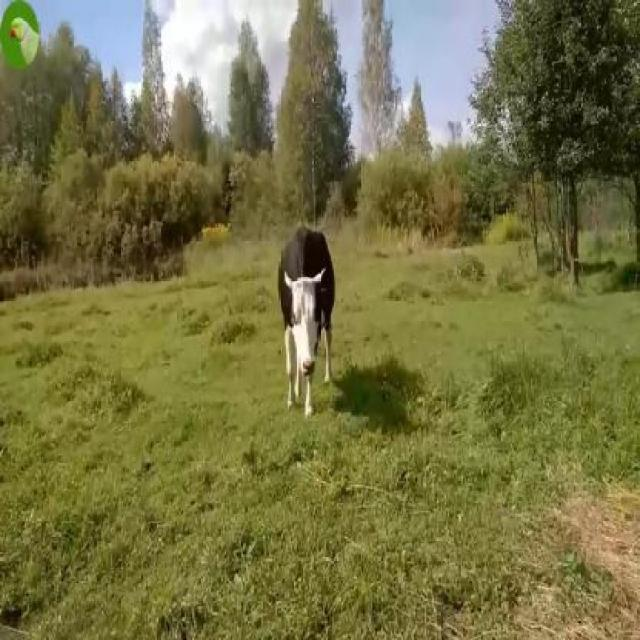Cow: (277, 227, 338, 418)
